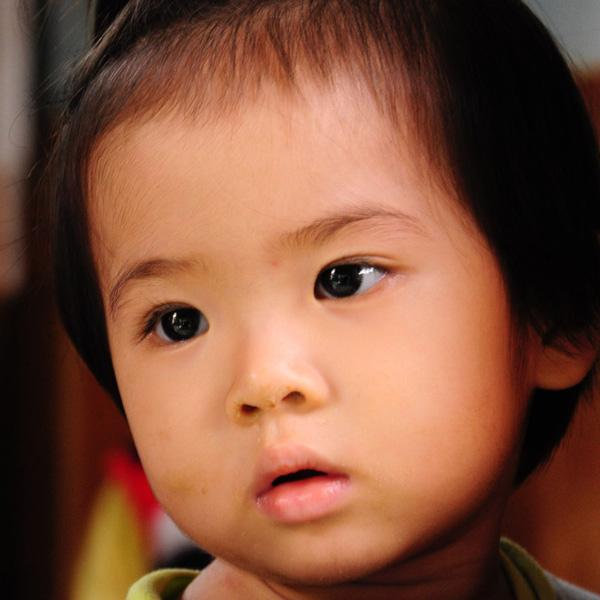Eyes: (302, 239, 411, 321), (124, 280, 219, 369)
